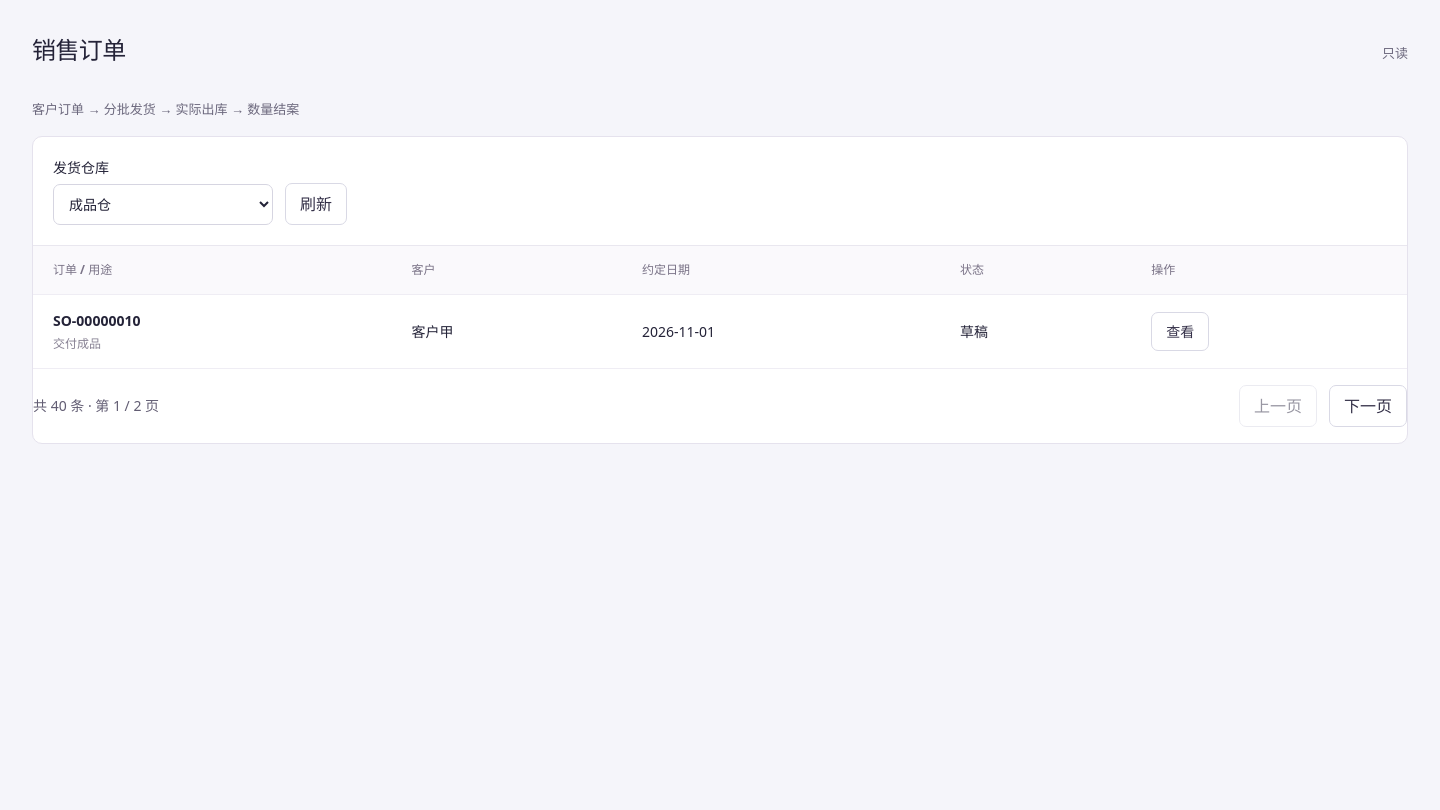
separates read-only sales details and returns to the original page without a new read
Click the button "下一页": (1368, 406) [1329,384,1407,426]
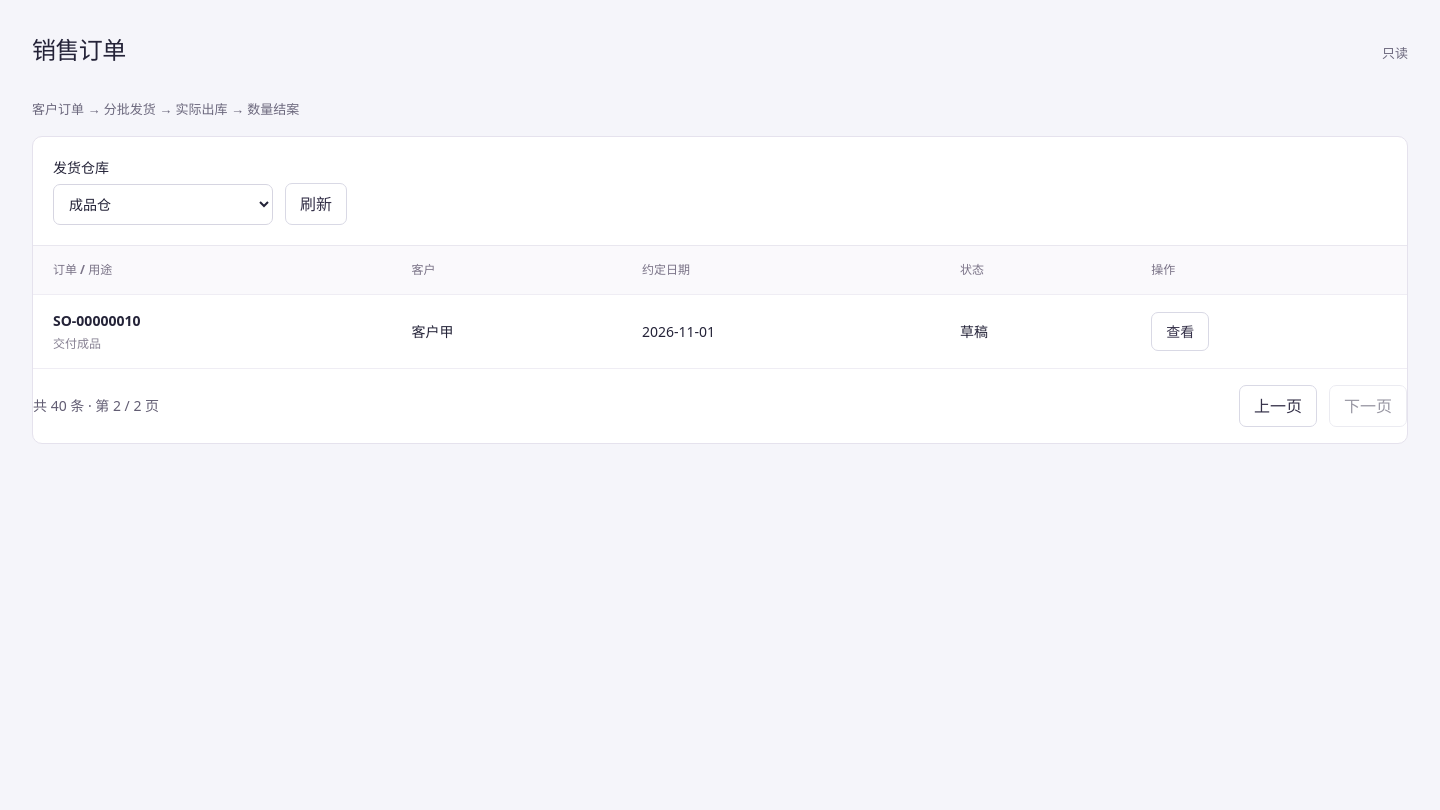
Click the button "查看": (1180, 331) [1151,312,1209,350]
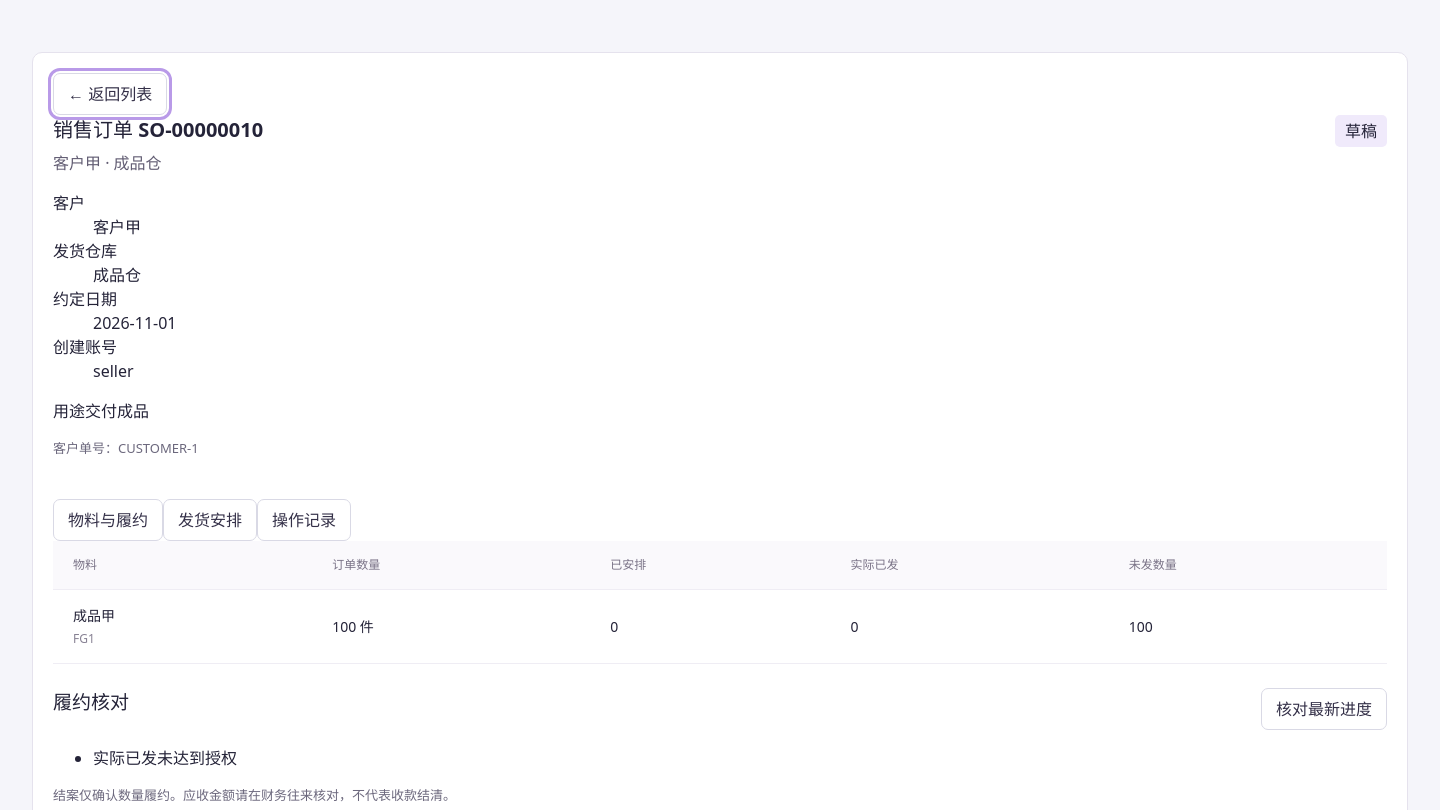
Click the tab with id "sales-tab-arrangements": (210, 520) [163,498,257,540]
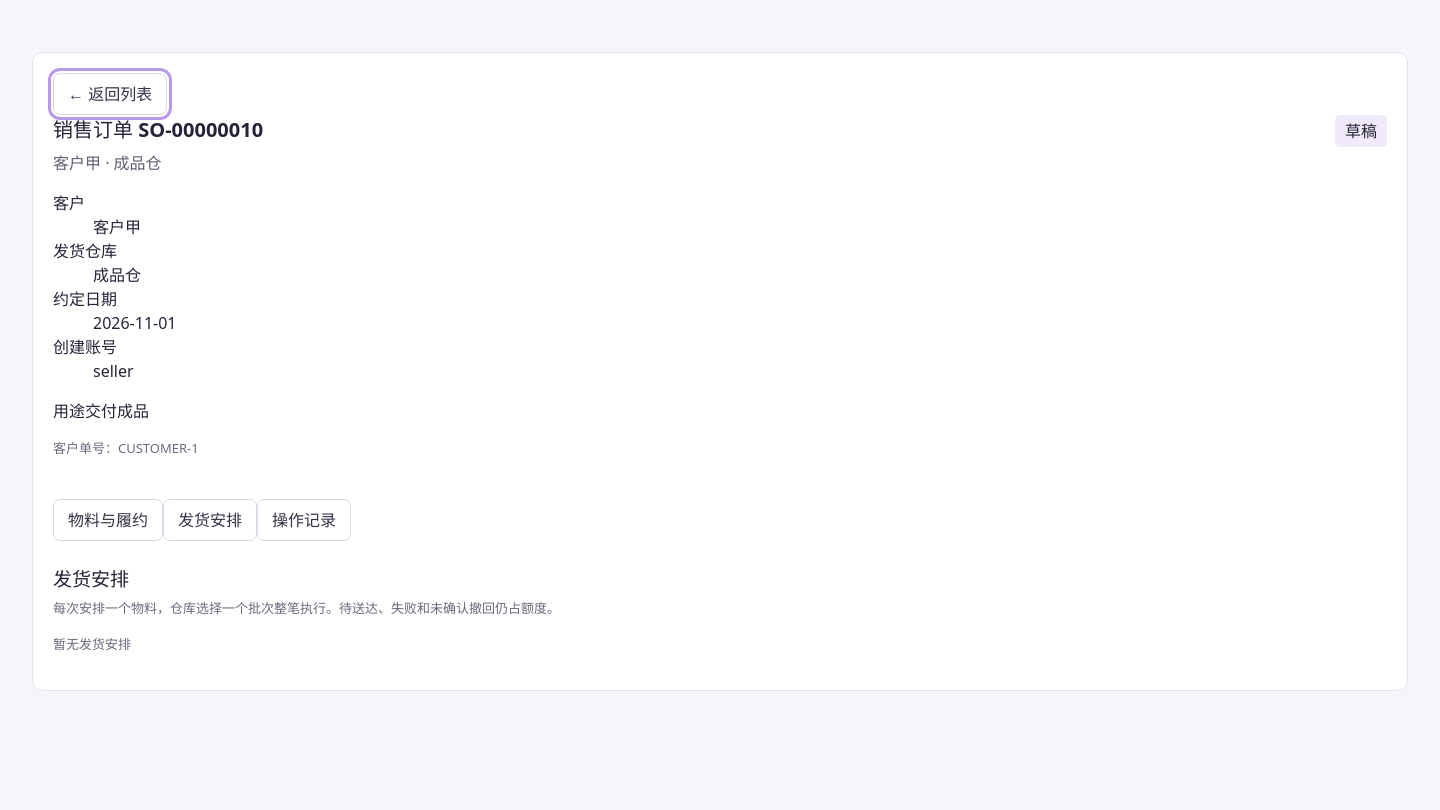
Press ArrowRight in the tab with id "sales-tab-arrangements", box [163,498,257,540]
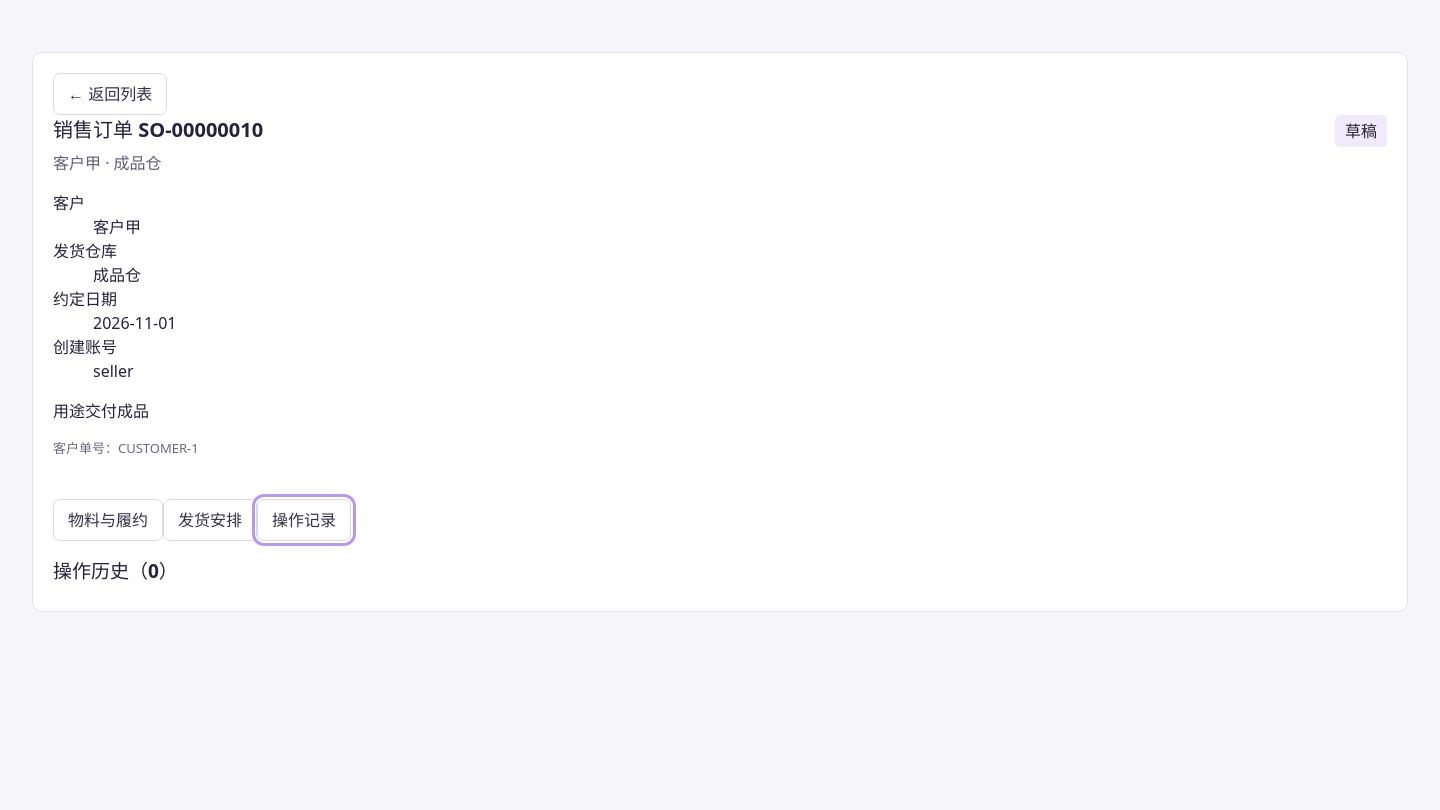
Click the button with class "back-to-list": (110, 94) [53,73,167,115]
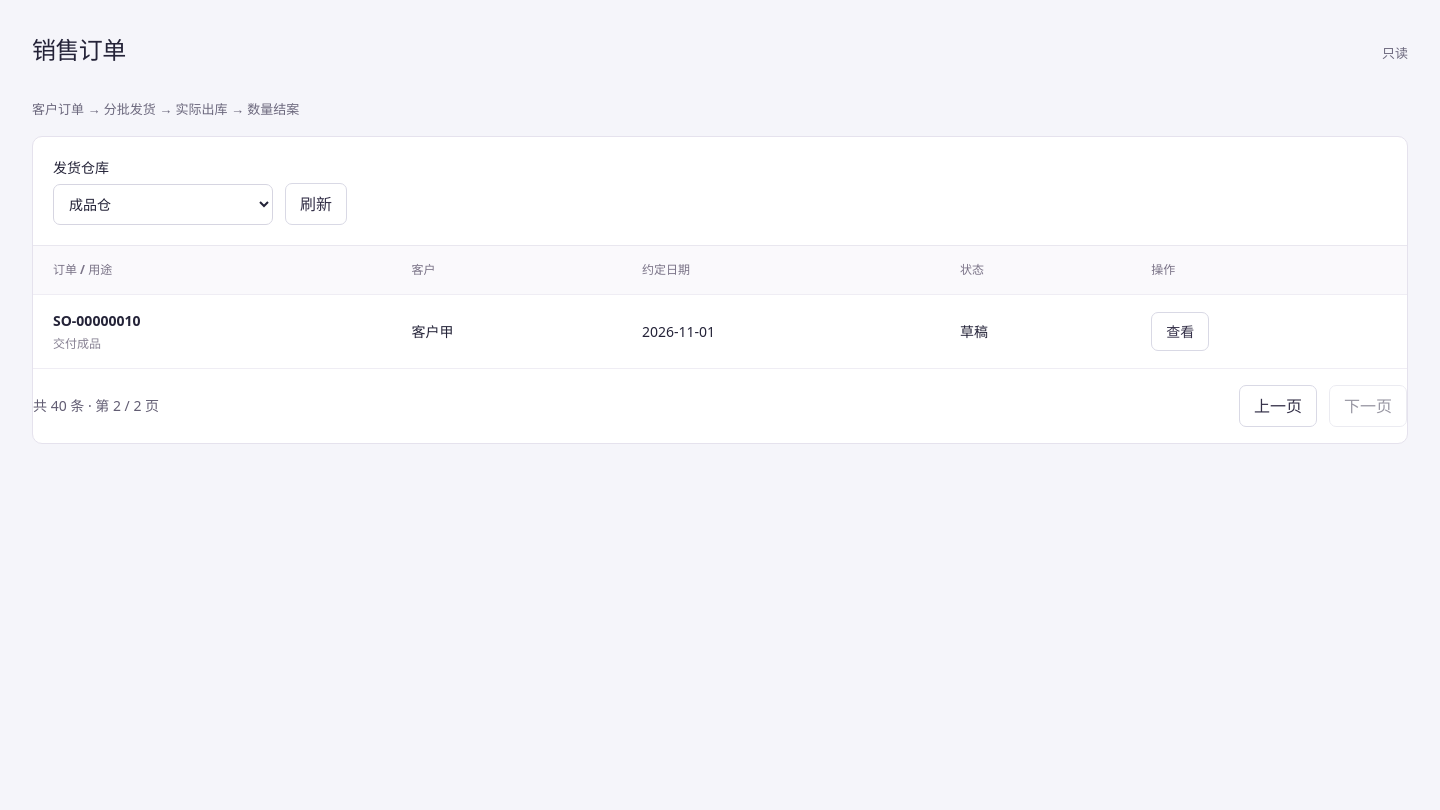
Result: the navigation bar with class "result-pager" shows "第 2 / 2 页" at [33,396,159,415]
